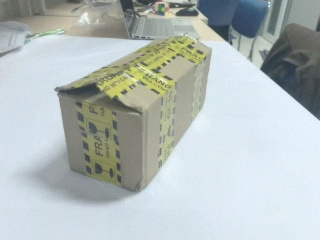box: (56, 35, 211, 191)
